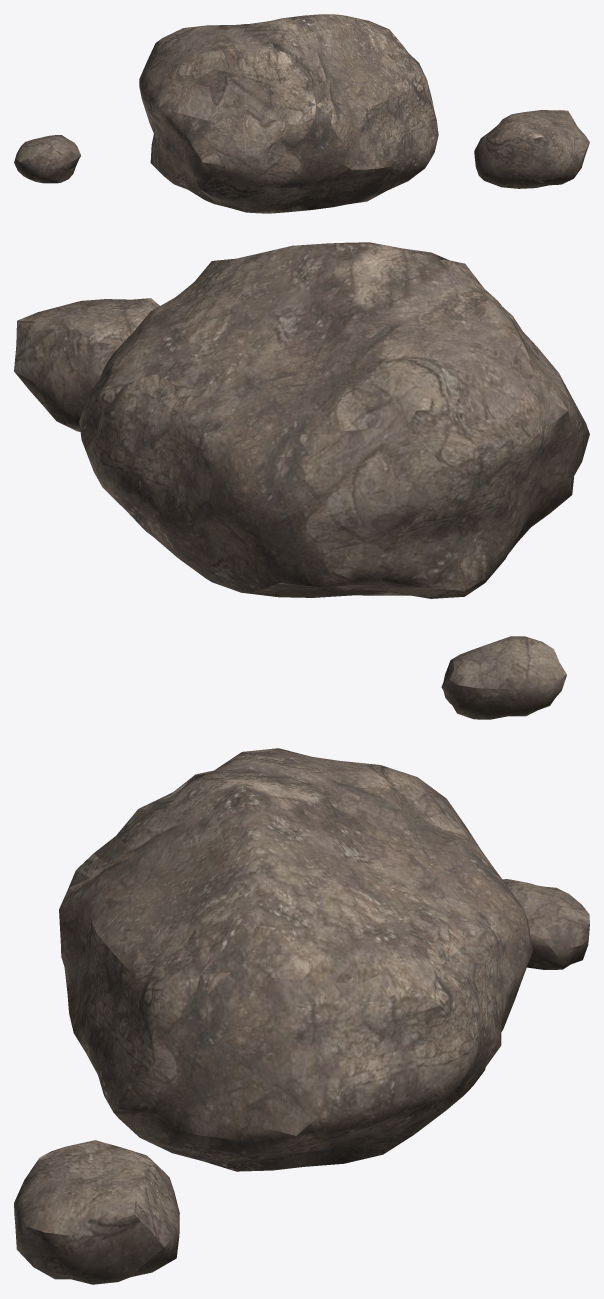
The model's file is rock_05.glb.
3 views of the same model, one above another, from view 1: azimuth 30°, elevation 25°; view 2: azimuth 150°, elevation 25°; view 3: azimuth 270°, elevation 25° (orthographic). The views are drawn at different scales.
Visible parts, largest first — view 1: rock_05; view 2: rock_05; view 3: rock_05.
Part boxes in pixels (x1,y1,x2,y2): rock_05: (14,14,589,213); rock_05: (14,242,589,719); rock_05: (14,748,589,1284).
Bounding box in the file's own units: 4.4 × 1.67 × 2.86.
Materials: 1 (1 with a texture image).
